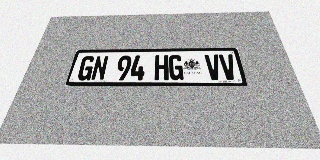4: (130, 55, 146, 80)
9: (115, 55, 132, 80)
G: (76, 56, 96, 80), (169, 55, 184, 80)
H: (154, 55, 169, 80)
N: (90, 56, 109, 80)
V: (218, 54, 238, 80), (204, 54, 223, 80)
